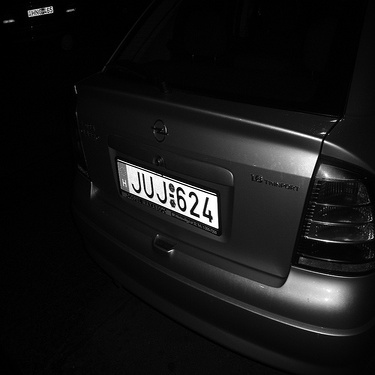car: (76, 54, 370, 371), (1, 10, 90, 39)
